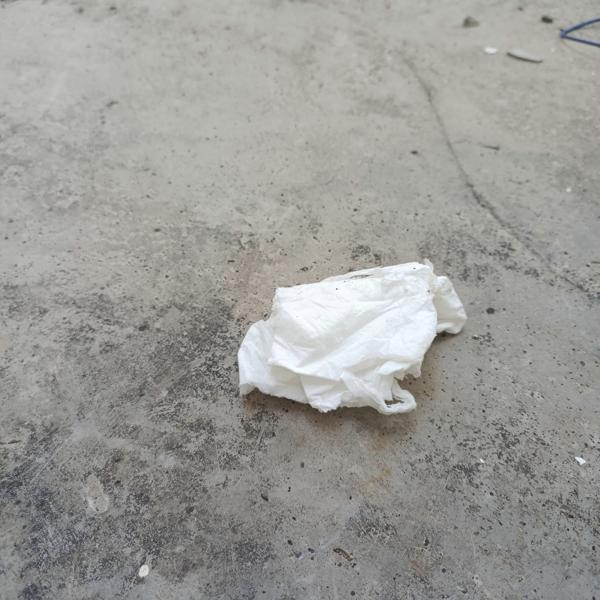Organik: (232, 253, 472, 467)
